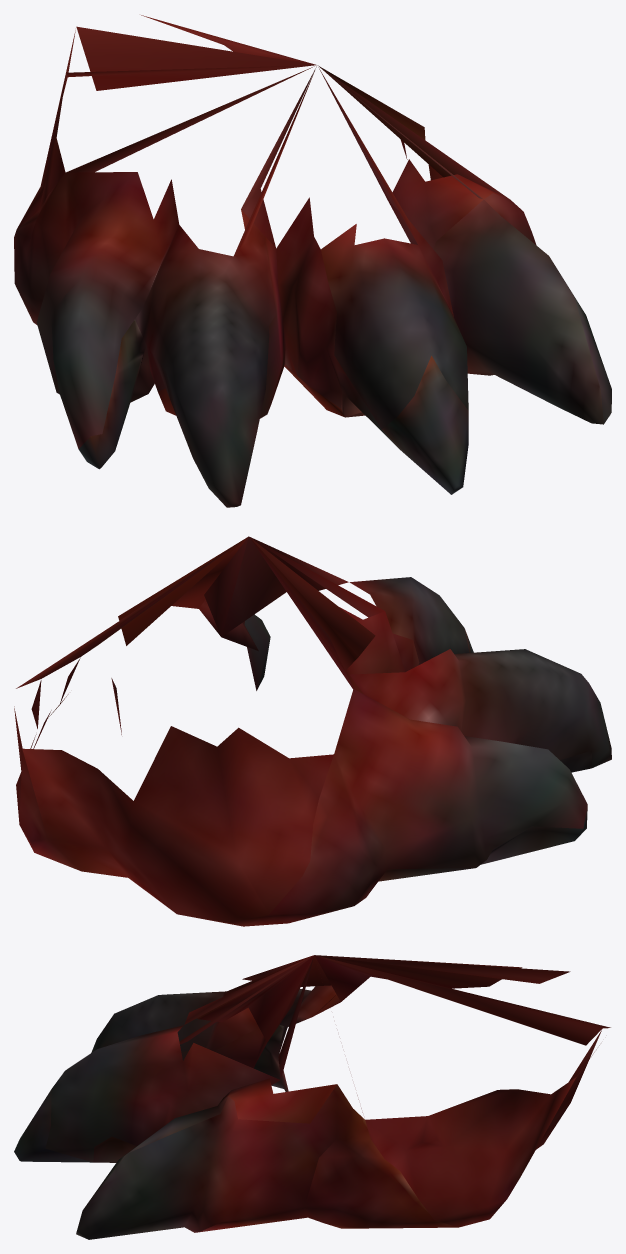
The model's file is dragon_paw_bnegx.glb.
The picture shows the model from 3 angles, top to bottom: view 1: azimuth 30°, elevation 25°; view 2: azimuth 150°, elevation 25°; view 3: azimuth 270°, elevation 25°; orthographic projection. The views are drawn at different scales.
Bounding box in the file's own units: 2.76 × 1.64 × 3.83.
1 material, 1 textured.
